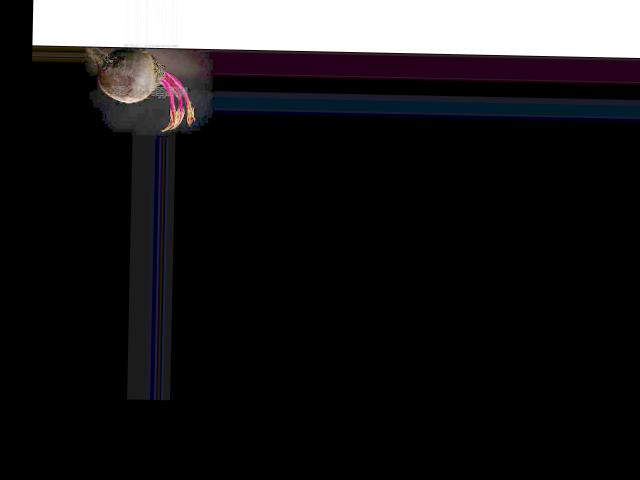beet: (81, 46, 195, 131)
